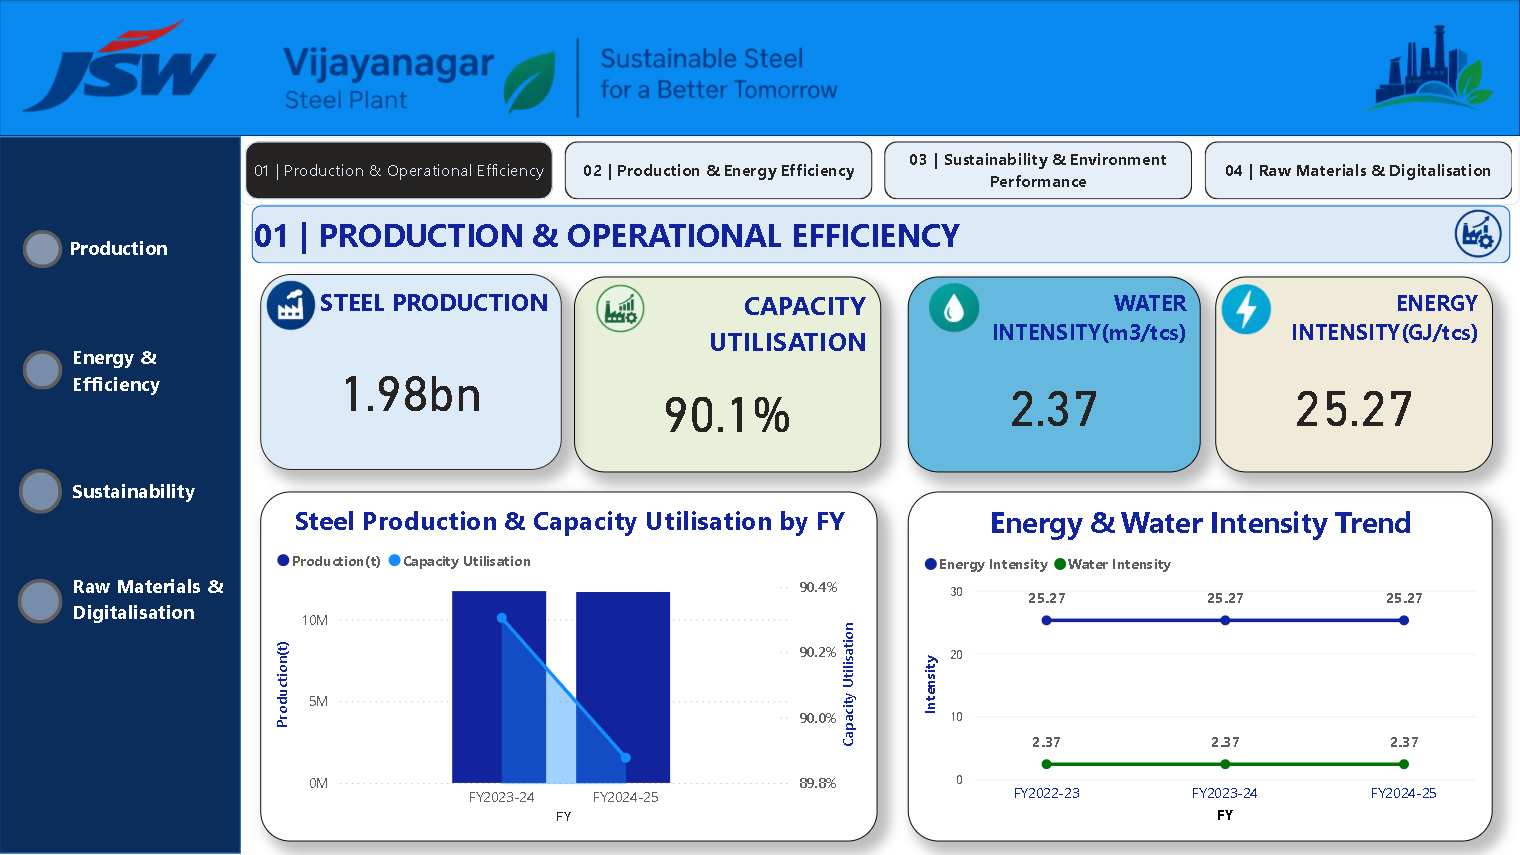

This screenshot's page, from the dashboard's own definition file:
{"tool":"powerbi","page":{"name":"01 | Production & Operational Efficiency","canvas":[1280,720],"ordinal":0},"visuals":[{"type":"card","title":"CAPACITY UTILISATION","fields":{"Values":["Production.Average Capacity Utilisation"]},"box":[483.3,233.7,258.3,164.5],"z":0},{"type":"card","title":"STEEL PRODUCTION","fields":{"Values":["Sum(Production.Crude_Steel_Production_t)"]},"box":[219.3,230.8,253.9,164.5],"z":1000},{"type":"card","title":"WATER INTENSITY(m3/tcs)","fields":{"Values":["Water.Average Water Intensity"]},"box":[764.7,233.7,246.7,164.5],"z":2000},{"type":"lineClusteredColumnComboChart","title":"Steel Production & Capacity Utilisation by FY","fields":{"Category":["Dim FY.FY"],"Y":["Production.Average Steel Production"],"Y2":["Production.Average Capacity Utilisation"]},"box":[219.3,414.1,519.4,294.3],"z":3000},{"type":"lineChart","title":"Energy & Water Intensity Trend","fields":{"Category":["Dim FY.FY"],"Y":["Energy.Average Energy Intensity","Water.Average Water Intensity"]},"box":[764.7,414.1,492,294.3],"z":4000},{"type":"card","title":"ENERGY INTENSITY(GJ/tcs)","fields":{"Values":["Energy.Average Energy Intensity"]},"box":[1022.9,233.7,233.7,164.5],"z":5000},{"type":"shape","box":[212.1,173.1,1059,49.1],"z":6000},{"type":"pageNavigator","box":[203.4,115.4,1076.3,57.7],"z":7000},{"type":"shape","box":[0,0,1279.7,115.4],"z":8000},{"type":"shape","box":[0,115.4,203.4,603.1],"z":9000},{"type":"actionButton","box":[20.2,194.8,33.2,31.7],"z":10000},{"type":"actionButton","box":[20.2,295.8,33.2,33.2],"z":11000},{"type":"actionButton","box":[17.3,395.3,36.1,37.5],"z":12000},{"type":"actionButton","box":[15.9,487.7,37.5,37.5],"z":13000},{"type":"textbox","box":[53.4,191.9,103.9,39],"z":14000},{"type":"textbox","box":[56.3,284.2,102.4,59.2],"z":15000},{"type":"textbox","box":[56.3,396.8,124.1,46.2],"z":16000},{"type":"textbox","box":[56.3,476.1,147.2,60.6],"z":17000},{"type":"image","box":[13,8.7,177.5,98.1],"z":18000},{"type":"image","box":[129.8,0,411.2,115.4],"z":19000},{"type":"image","box":[1139.8,0,122.6,115.4],"z":20000},{"type":"image","box":[414.1,0,300.1,127],"z":21000},{"type":"image","box":[219.7,231.3,52.6,52.6],"z":22000},{"type":"image","box":[776.5,233.2,52.6,52.6],"z":23000},{"type":"image","box":[1022.6,234.7,52.6,52.6],"z":24000},{"type":"image","box":[496.3,234.5,52.6,52.6],"z":25000},{"type":"image","box":[1218.6,171.4,52.6,52.6],"z":26000}]}

Visuals, with their boxes in screenshot pixels (x1, y1, x2, y2), scaled from the page's 1280x720 canvas onto the 1520x855 screenshot:
"CAPACITY UTILISATION" card: select_region(574, 278, 881, 473)
"STEEL PRODUCTION" card: select_region(260, 274, 562, 469)
"WATER INTENSITY(m3/tcs)" card: select_region(908, 278, 1201, 473)
"Steel Production & Capacity Utilisation by FY" lineClusteredColumnComboChart: select_region(260, 492, 877, 841)
"Energy & Water Intensity Trend" lineChart: select_region(908, 492, 1492, 841)
"ENERGY INTENSITY(GJ/tcs)" card: select_region(1215, 278, 1492, 473)
shape: select_region(252, 206, 1509, 264)
pageNavigator: select_region(242, 137, 1519, 206)
shape: select_region(0, 0, 1519, 137)
shape: select_region(0, 137, 242, 853)
actionButton: select_region(24, 231, 63, 269)
actionButton: select_region(24, 351, 63, 391)
actionButton: select_region(21, 469, 63, 514)
actionButton: select_region(19, 579, 63, 624)
textbox: select_region(63, 228, 187, 274)
textbox: select_region(67, 337, 188, 408)
textbox: select_region(67, 471, 214, 526)
textbox: select_region(67, 565, 242, 637)
image: select_region(15, 10, 226, 127)
image: select_region(154, 0, 642, 137)
image: select_region(1354, 0, 1499, 137)
image: select_region(492, 0, 848, 151)
image: select_region(261, 275, 323, 337)
image: select_region(922, 277, 985, 339)
image: select_region(1214, 279, 1277, 341)
image: select_region(589, 278, 652, 341)
image: select_region(1447, 204, 1510, 266)
